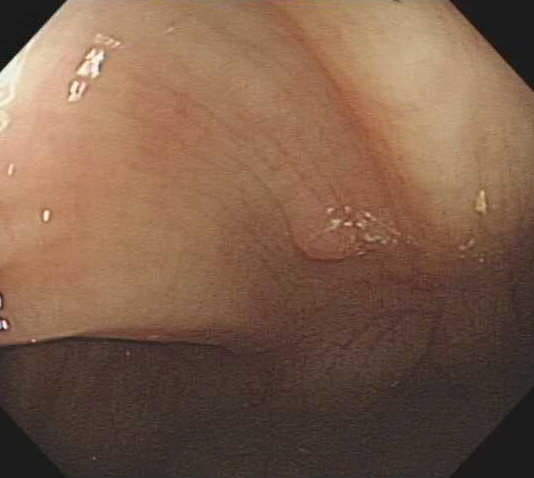others: (281, 212, 360, 264)
